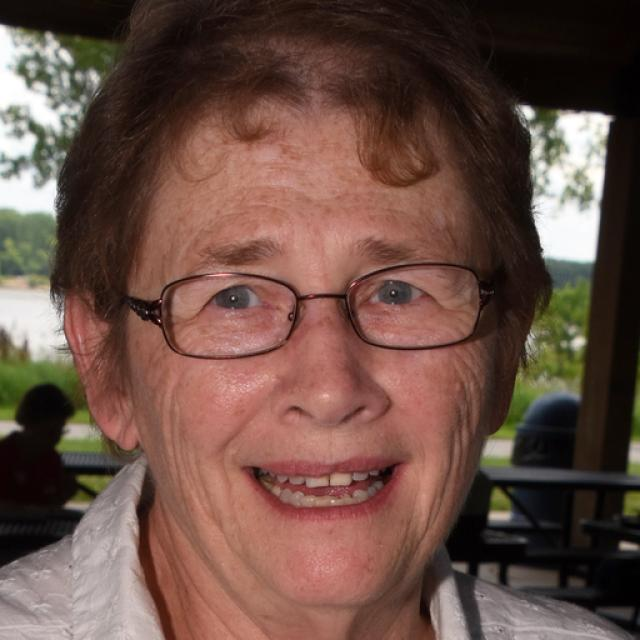Pigmentation: (201, 135, 317, 246), (321, 164, 416, 228)
Wrinkle: (425, 424, 460, 537)
